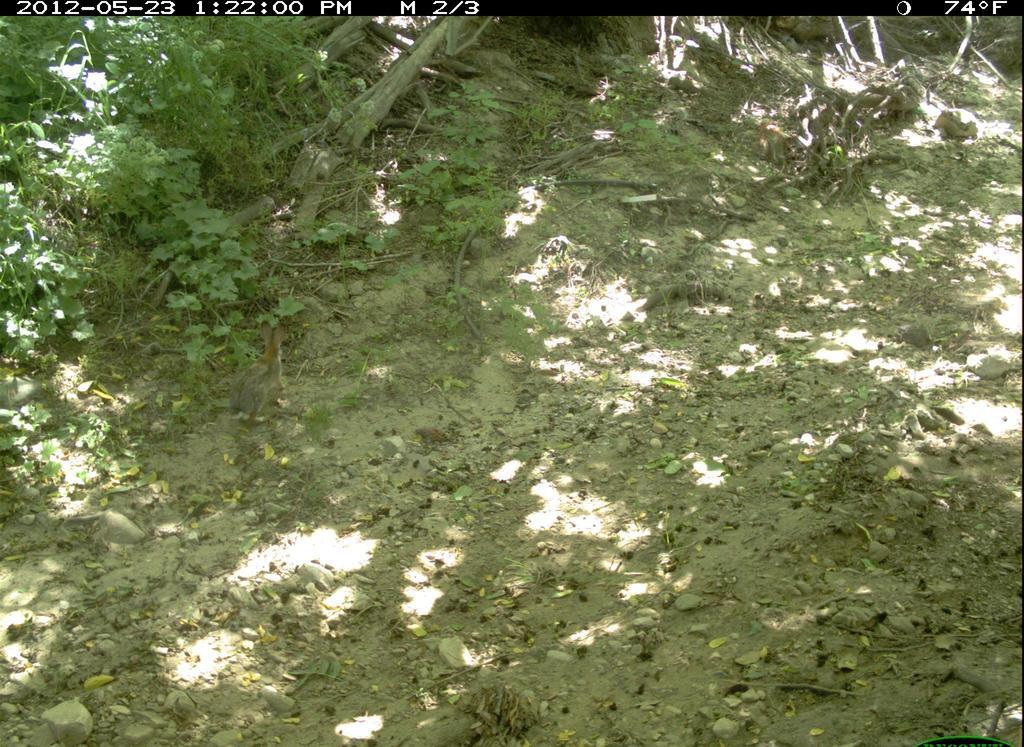rabbit: (224, 317, 300, 428)
